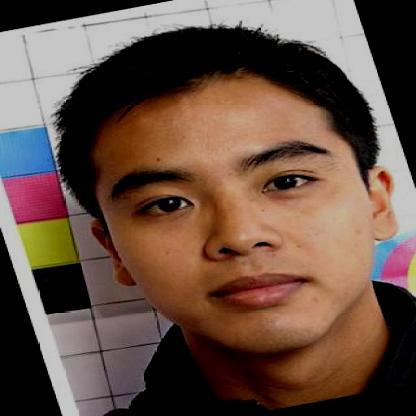without_mask: (90, 159, 393, 332)
